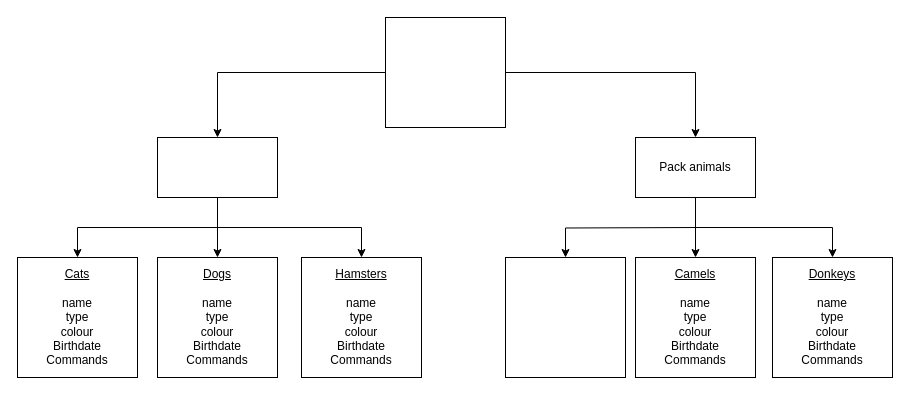
The diagram is 910 pixels wide and 395 high, and some of its shapes have lost their labels. Here are the shapes that lost their labels. From the top down, the centre of each, then its label:
At [445,72]: "Animals".
At [217,167]: "Pets".
At [565,317]: "Horses name type colour Birthdate Commands".
